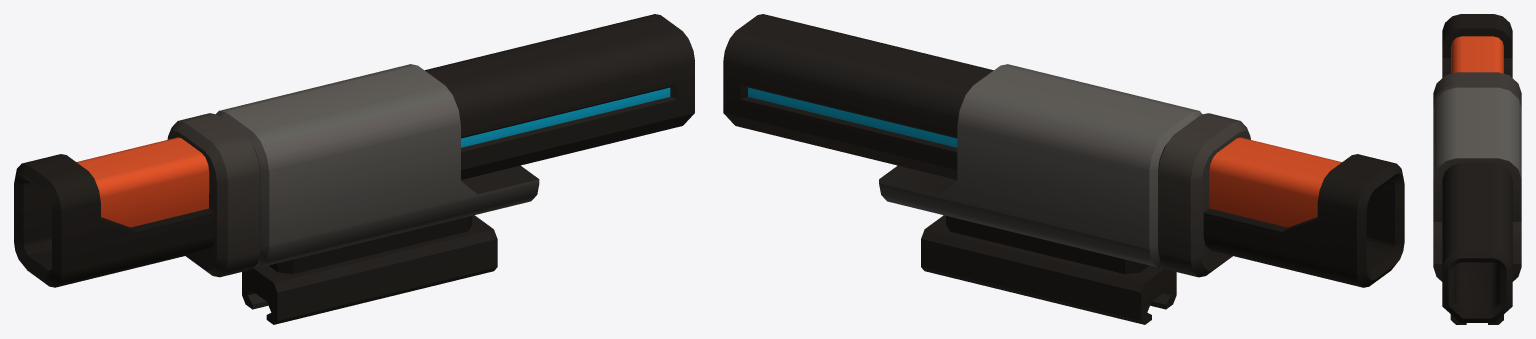
File: Sight_11.fbx
3 views of the same model, side by side, from view 1: azimuth 30°, elevation 25°; view 2: azimuth 150°, elevation 25°; view 3: azimuth 270°, elevation 25° (orthographic). The views are drawn at different scales.
Visible parts, largest first — view 1: Sight_11; view 2: Sight_11; view 3: Sight_11.
Boxes of the visible parts, bbox=[...] form: Sight_11: bbox=[14, 14, 694, 324]; Sight_11: bbox=[723, 14, 1404, 324]; Sight_11: bbox=[1433, 14, 1521, 324].
Bounding box in the file's own units: 41.04 × 12.02 × 6.47.
